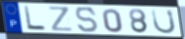0: (101, 7, 125, 34)
8: (128, 8, 149, 35)
L: (22, 5, 48, 32)
S: (74, 6, 100, 34)
U: (150, 8, 177, 35)
Z: (48, 6, 76, 33)
